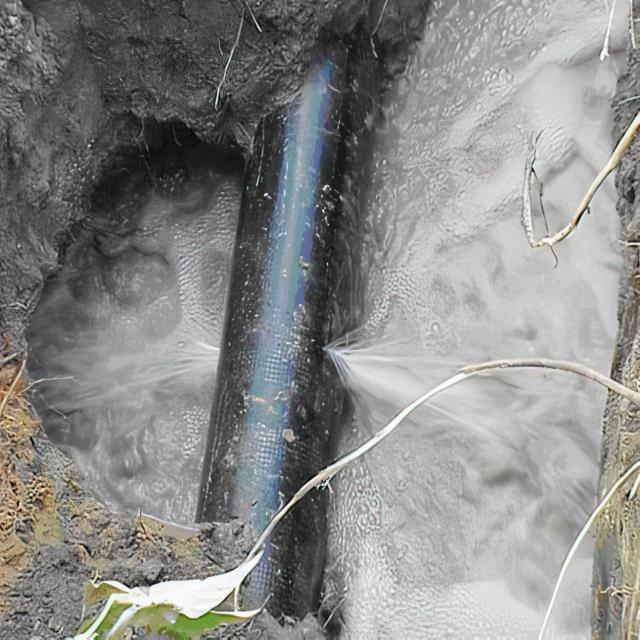leak: (323, 282, 623, 536), (23, 290, 224, 418)
